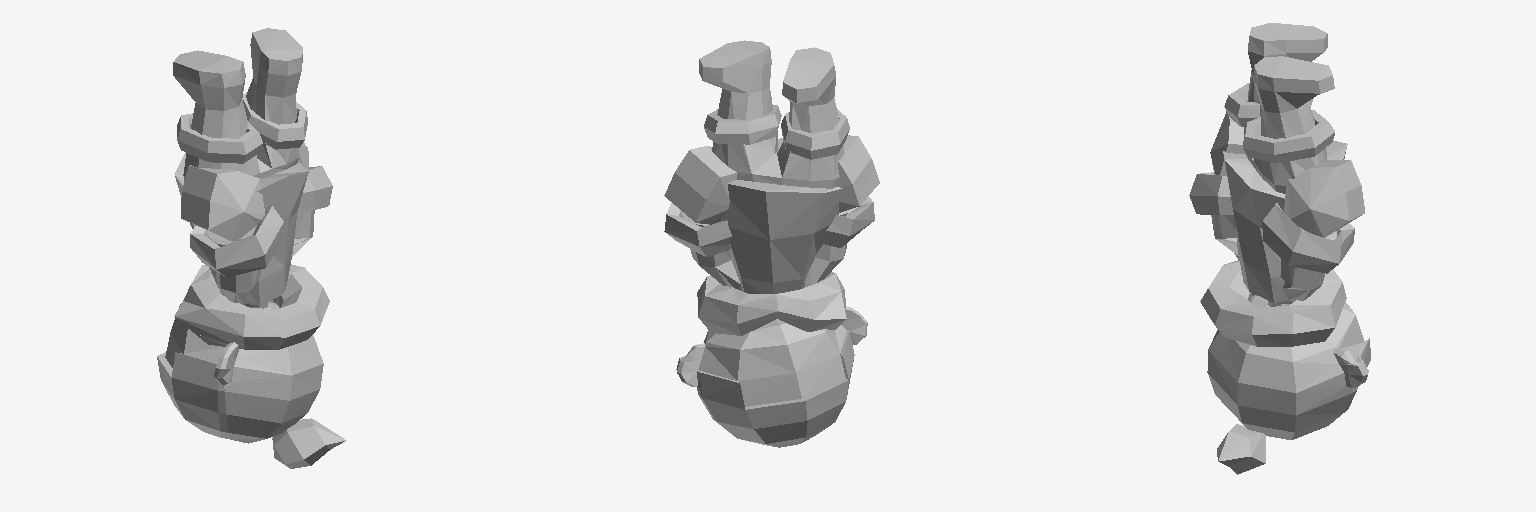
Rendered from eikastanding_000078.obj.
The picture shows the model from 3 angles: view 1: azimuth 30°, elevation 25°; view 2: azimuth 150°, elevation 25°; view 3: azimuth 270°, elevation 25°; orthographic projection.
Visible parts, largest first — view 1: Cylinder; view 2: Cylinder; view 3: Cylinder.
Boxes of the visible parts, x1=… form: Cylinder: x1=157, y1=28, x2=346, y2=468; Cylinder: x1=664, y1=40, x2=879, y2=447; Cylinder: x1=1189, y1=23, x2=1370, y2=474.
Size of the model in its own units: 23.7 by 55.67 by 22.35.